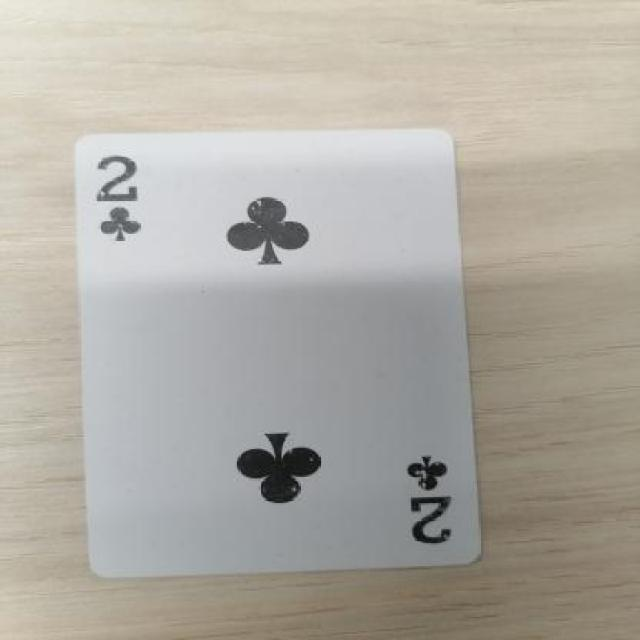2C: (83, 148, 163, 260), (387, 450, 471, 548)
